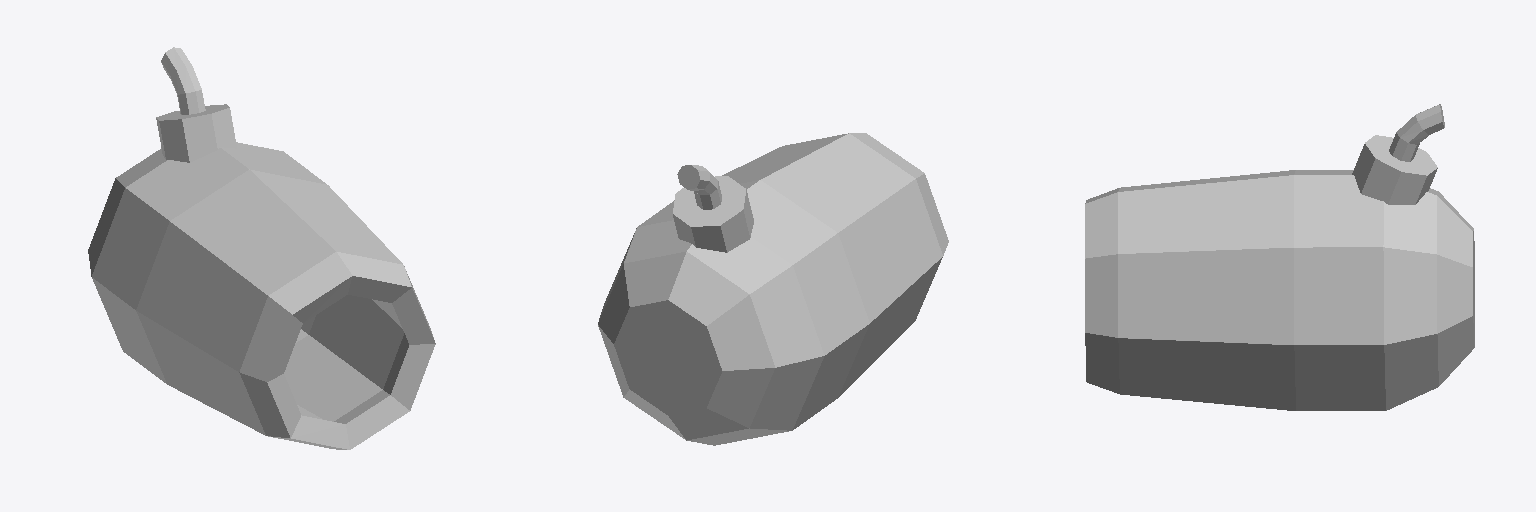
Rendered from canon.obj.
The picture shows the model from 3 angles: view 1: azimuth 30°, elevation 25°; view 2: azimuth 150°, elevation 25°; view 3: azimuth 270°, elevation 25°; orthographic projection.
Visible parts, largest first — view 1: Cube.004_Cube.005, Cube.007_Cube.022, Cube.006_Cube.007, Cube.005_Cube.006; view 2: Cube.004_Cube.005, Cube.006_Cube.007, Cube.005_Cube.006; view 3: Cube.004_Cube.005, Cube.006_Cube.007, Cube.005_Cube.006.
Boxes of the visible parts, box(x1,y1,x2,y2) form: Cube.004_Cube.005: box(88, 142, 435, 449); Cube.007_Cube.022: box(284, 295, 408, 423); Cube.006_Cube.007: box(156, 104, 236, 162); Cube.005_Cube.006: box(161, 47, 205, 114); Cube.004_Cube.005: box(598, 133, 948, 445); Cube.006_Cube.007: box(673, 176, 753, 252); Cube.005_Cube.006: box(677, 165, 721, 209); Cube.004_Cube.005: box(1085, 170, 1474, 410); Cube.006_Cube.007: box(1352, 135, 1437, 204); Cube.005_Cube.006: box(1389, 104, 1444, 161).
Size of the model in its own units: 1.25 by 1.62 by 1.91.